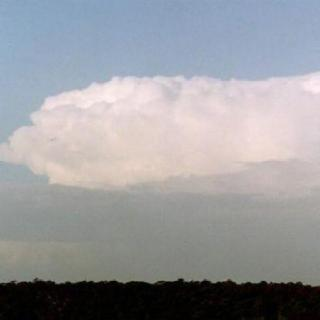Stratocumulus: (0, 61, 320, 220)
